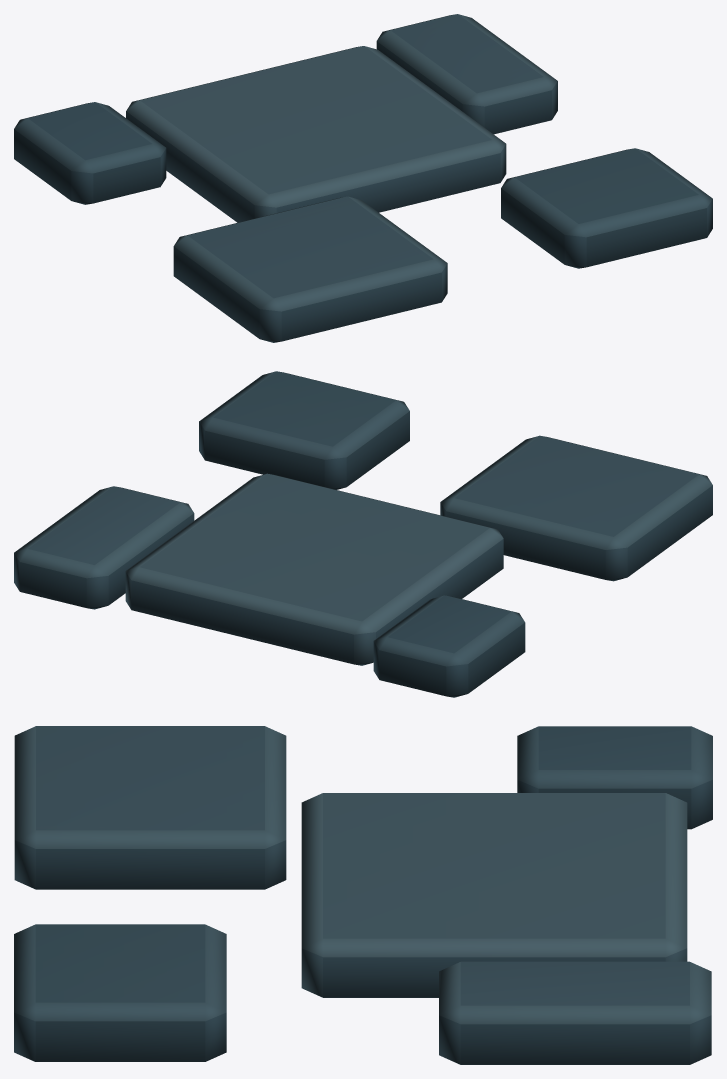
The model's file is stone_path_5.fbx.
3 renders of one model, top to bottom at view 1: azimuth 30°, elevation 25°; view 2: azimuth 150°, elevation 25°; view 3: azimuth 270°, elevation 25°, orthographic. The views are drawn at different scales.
Parts seen in each view (by area): view 1: stone_path_5; view 2: stone_path_5; view 3: stone_path_5.
Part boxes in pixels (box(x1,y1,x2,y2)): stone_path_5: box(14, 14, 712, 342); stone_path_5: box(14, 371, 712, 697); stone_path_5: box(14, 726, 712, 1064).
Bounding box in the file's own units: 196 × 18.28 × 195.
